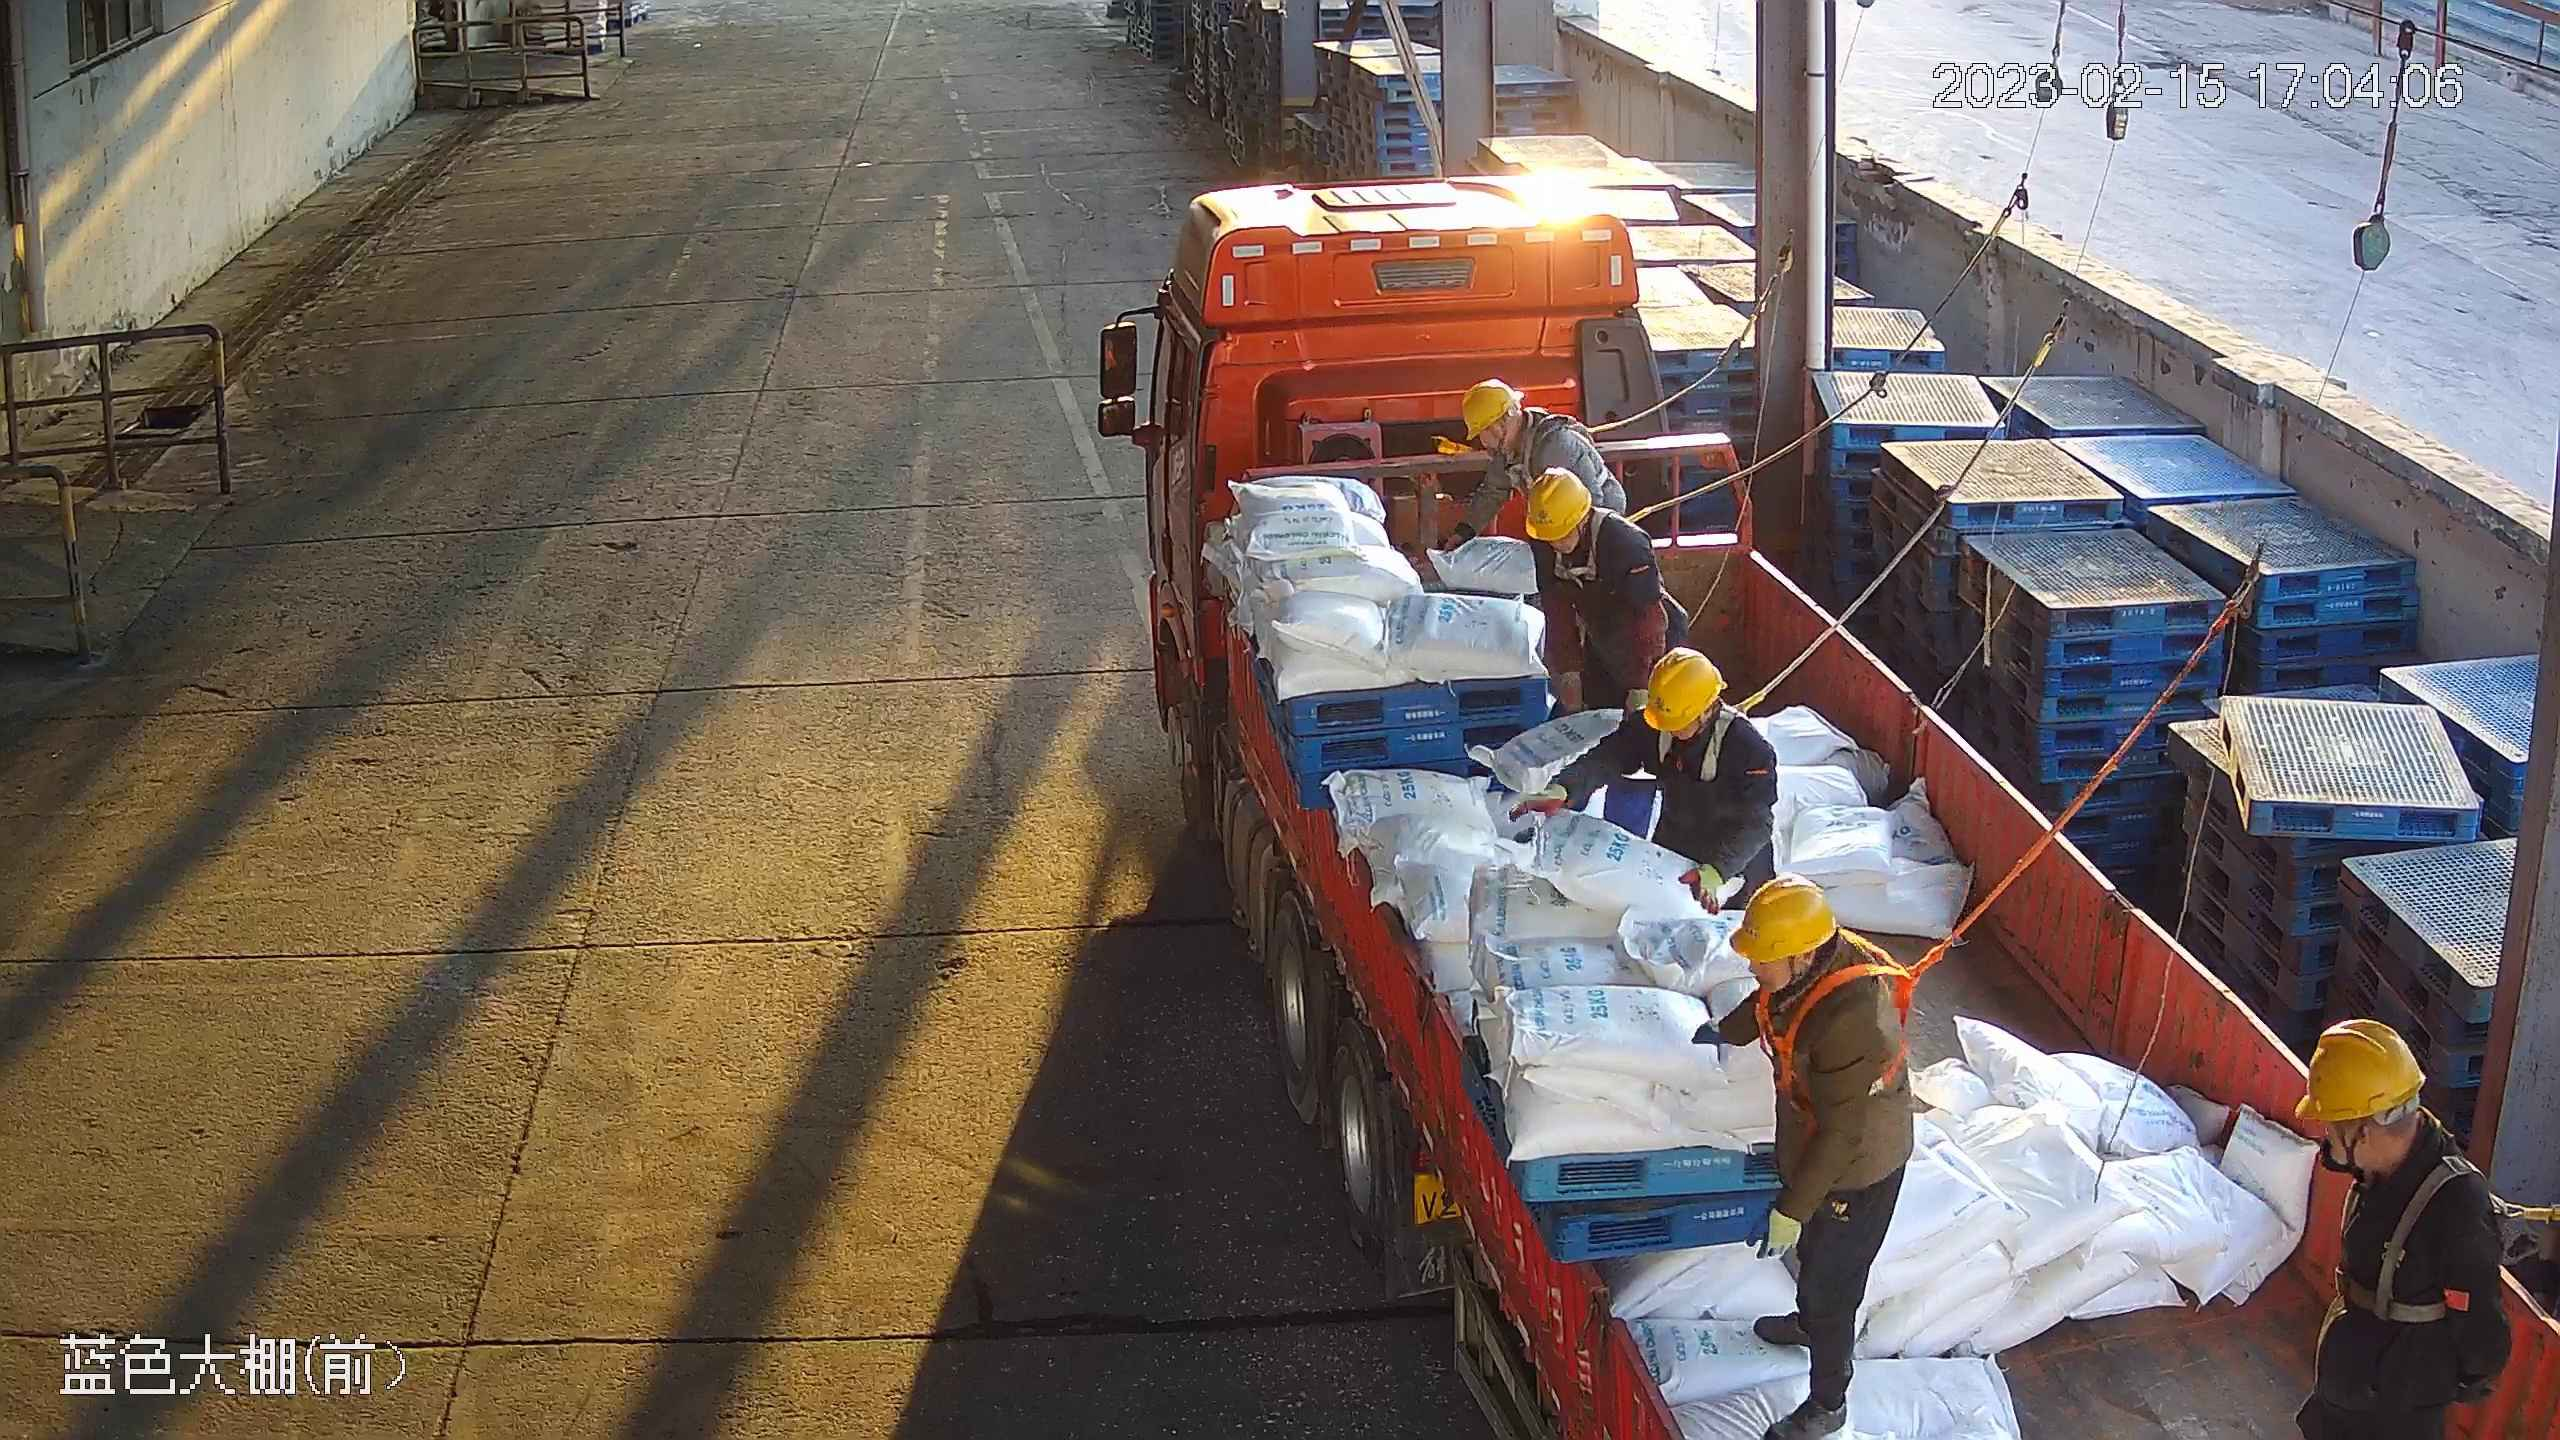belt: (1748, 938, 1949, 1122), (2324, 1155, 2523, 1333), (1547, 505, 1671, 586), (1645, 705, 1761, 789), (1506, 407, 1612, 491)
head: (2290, 1015, 2499, 1227), (1727, 868, 1903, 1041), (1625, 644, 1781, 763), (1523, 465, 1657, 561), (1459, 378, 1594, 463)
helmet: (2291, 1015, 2429, 1125), (1726, 870, 1840, 963), (1642, 647, 1727, 732), (1523, 466, 1593, 542), (1461, 378, 1526, 441)
people: (1697, 868, 1917, 1440), (2293, 1011, 2514, 1440), (1505, 645, 1777, 917), (1524, 462, 1694, 719), (1438, 377, 1630, 551)
truck: (1138, 172, 2560, 1440)
